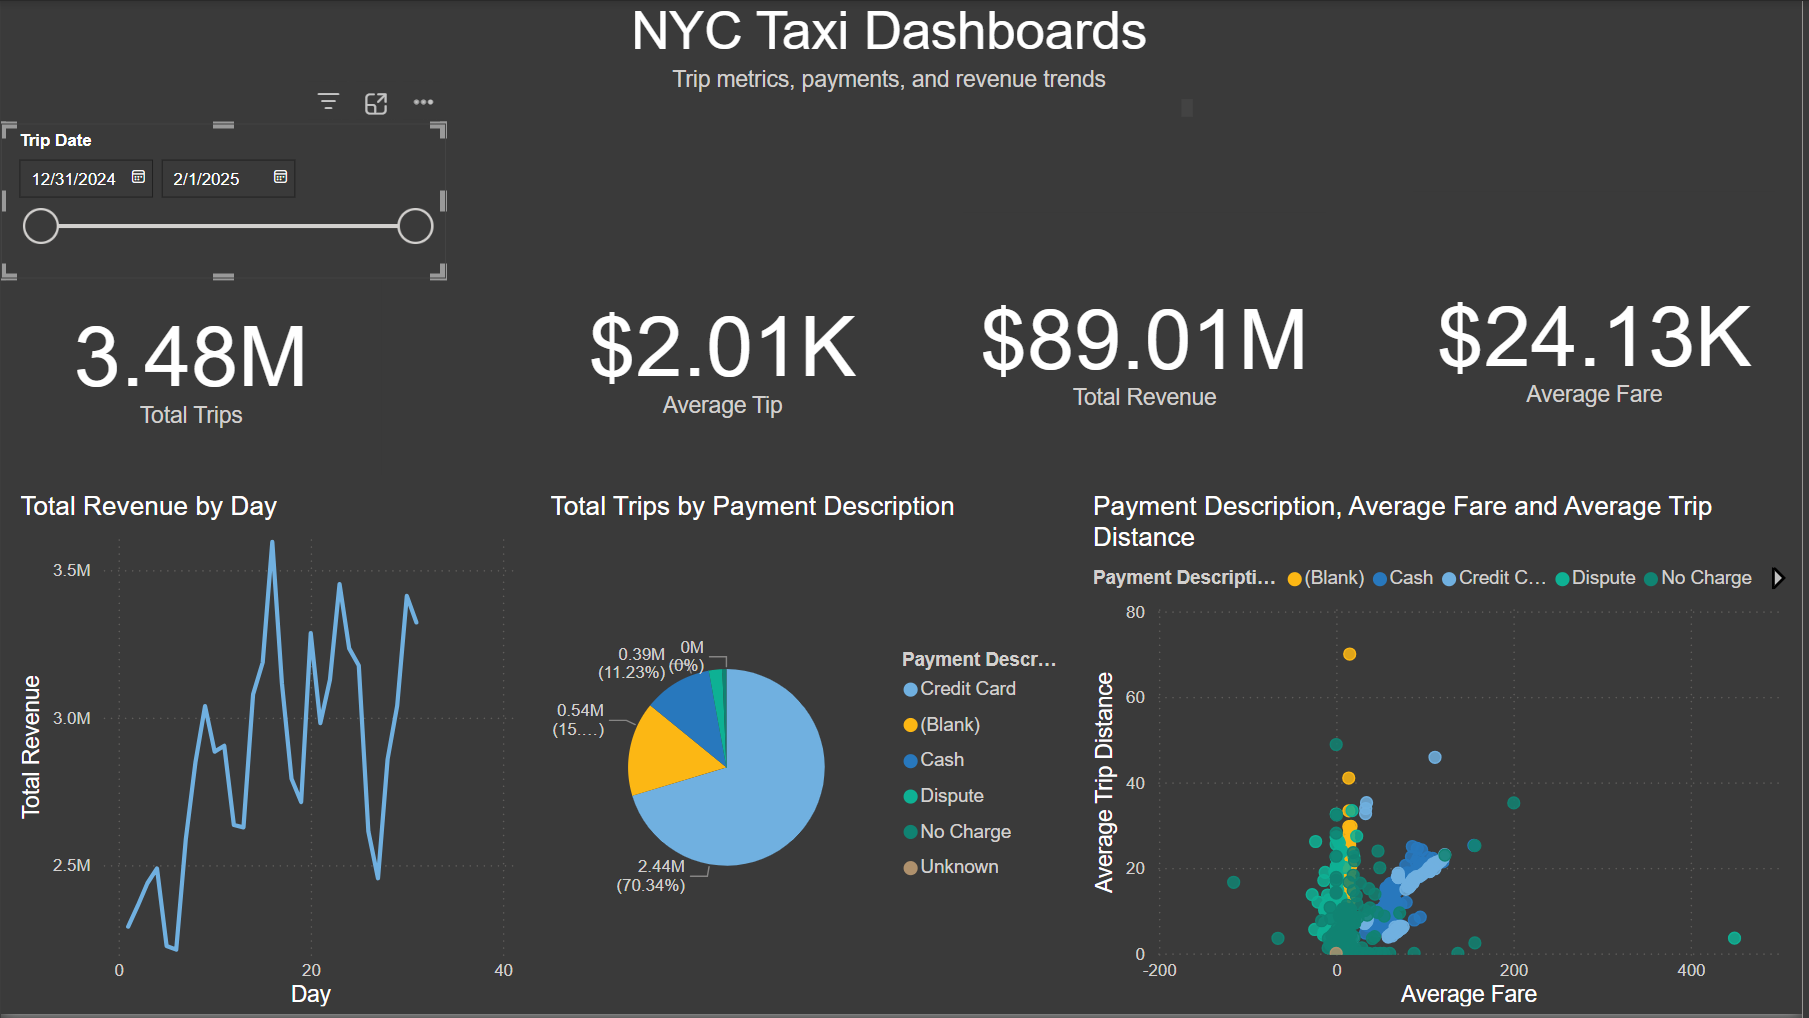

What the dashboard file says about the page in this screenshot:
{"tool":"powerbi","page":{"name":"Page 1","canvas":[1280,720],"ordinal":0},"visuals":[{"type":"card","fields":{"Values":["Sum(FCT_TRIP.TOTAL_TRIPS)"]},"box":[0,177.1,270,160],"z":0},{"type":"card","fields":{"Values":["Sum(FCT_TRIP.AVG_TIP)"]},"box":[385.7,161.4,254.3,175.7],"z":1000},{"type":"card","fields":{"Values":["Sum(FCT_TRIP.TOTAL_REVENUE)"]},"box":[684.3,150,257.1,187.1],"z":2000},{"type":"card","fields":{"Values":["Sum(FCT_TRIP.AVG_FARE)"]},"box":[1004.3,135.7,257.1,212.9],"z":3000},{"type":"lineChart","fields":{"Category":["FCT_TRIP.TRIP_DATE.Variation.Date Hierarchy.Day"],"Y":["Sum(FCT_TRIP.TOTAL_REVENUE)"]},"box":[8.6,348.6,362.9,371.4],"z":4000},{"type":"scatterChart","fields":{"X":["FCT_TRIP.AVG_FARE"],"Y":["FCT_TRIP.AVG_TRIP_DISTANCE"],"Series":["DIM_PAYMENT_TYPE.PAYMENT_DESCRIPTION"]},"box":[771.4,348.6,508.6,371.4],"z":5000},{"type":"pieChart","fields":{"Category":["DIM_PAYMENT_TYPE.PAYMENT_DESCRIPTION"],"Y":["Sum(FCT_TRIP.TOTAL_TRIPS)"]},"box":[385.7,348.6,375.7,371.4],"z":6000},{"type":"slicer","fields":{"Values":["FCT_TRIP.TRIP_DATE"]},"box":[0,87.1,315.7,110],"z":7000},{"type":"textbox","title":"NYC Taxi Dashboards","box":[410,0,441.4,87.1],"z":8000}]}

Visuals, with their boxes in screenshot pixels (x1, y1, x2, y2), scaled from the page's 1280x720 canvas onto the 1809x1018 screenshot:
card - Sum(FCT_TRIP.TOTAL_TRIPS): crop(0, 250, 382, 477)
card - Sum(FCT_TRIP.AVG_TIP): crop(545, 228, 904, 477)
card - Sum(FCT_TRIP.TOTAL_REVENUE): crop(967, 212, 1330, 477)
card - Sum(FCT_TRIP.AVG_FARE): crop(1419, 192, 1783, 493)
lineChart - FCT_TRIP.TRIP_DATE.Variation.Date Hierarchy.Day x Sum(FCT_TRIP.TOTAL_REVENUE): crop(12, 493, 525, 1017)
scatterChart - FCT_TRIP.AVG_FARE x FCT_TRIP.AVG_TRIP_DISTANCE: crop(1090, 493, 1808, 1017)
pieChart - DIM_PAYMENT_TYPE.PAYMENT_DESCRIPTION x Sum(FCT_TRIP.TOTAL_TRIPS): crop(545, 493, 1076, 1017)
slicer - FCT_TRIP.TRIP_DATE: crop(0, 123, 446, 279)
"NYC Taxi Dashboards" textbox: crop(579, 0, 1203, 123)
